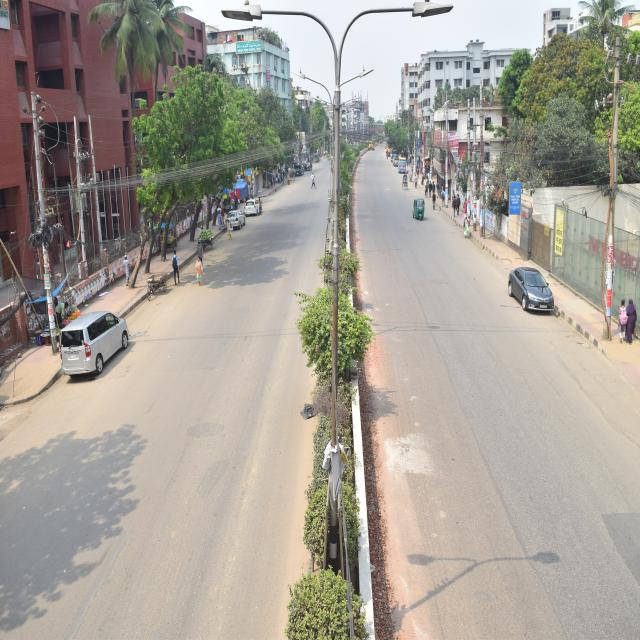car: (509, 257, 553, 324), (223, 195, 246, 237), (238, 182, 260, 216)
microbus: (51, 309, 128, 376)
truck: (397, 154, 410, 170)
